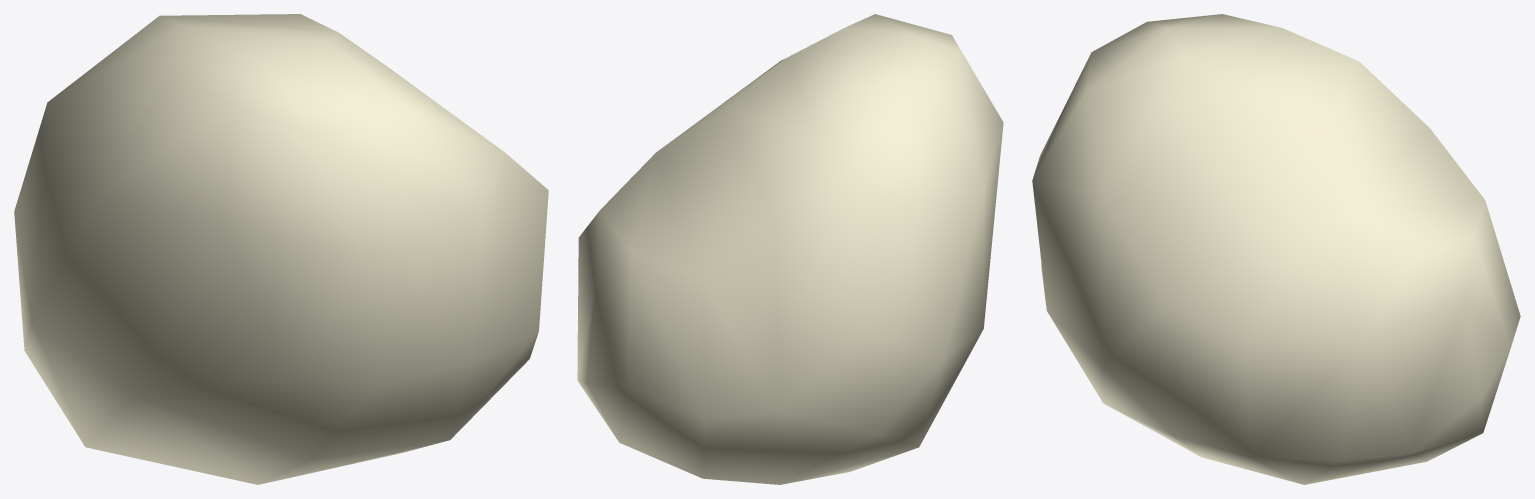
Rendered from item_goop.glb.
3 views of the same model, side by side, from view 1: azimuth 30°, elevation 25°; view 2: azimuth 150°, elevation 25°; view 3: azimuth 270°, elevation 25° (orthographic). The views are drawn at different scales.
Parts seen in each view (by area): view 1: Goop; view 2: Goop; view 3: Goop.
Boxes of the visible parts, x1=… form: Goop: x1=14, y1=14, x2=548, y2=484; Goop: x1=577, y1=14, x2=1003, y2=484; Goop: x1=1032, y1=14, x2=1520, y2=484.
Bounding box in the file's own units: 0.1048 × 0.1041 × 0.119.
